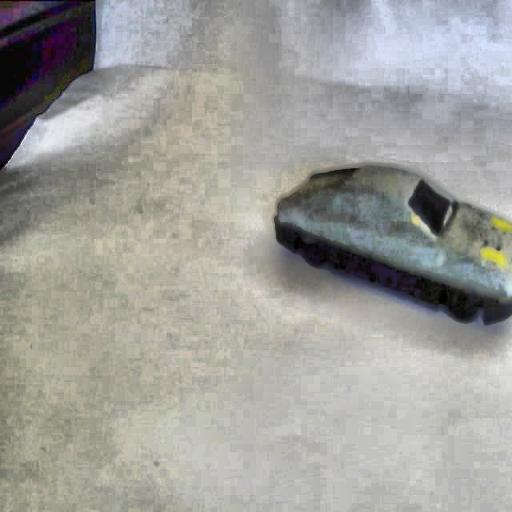normal_car: (267, 156, 512, 326)
